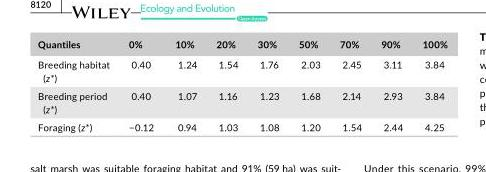table: (37, 37, 446, 132)
table column: (37, 37, 119, 132), (119, 37, 163, 132), (163, 37, 205, 132), (205, 37, 247, 132), (370, 37, 412, 132), (247, 37, 288, 132), (288, 37, 329, 132), (329, 37, 370, 132), (412, 37, 446, 132)
table column header: (37, 37, 446, 53)
table row: (37, 53, 446, 86), (37, 86, 446, 117), (37, 37, 446, 53), (37, 117, 446, 132)
